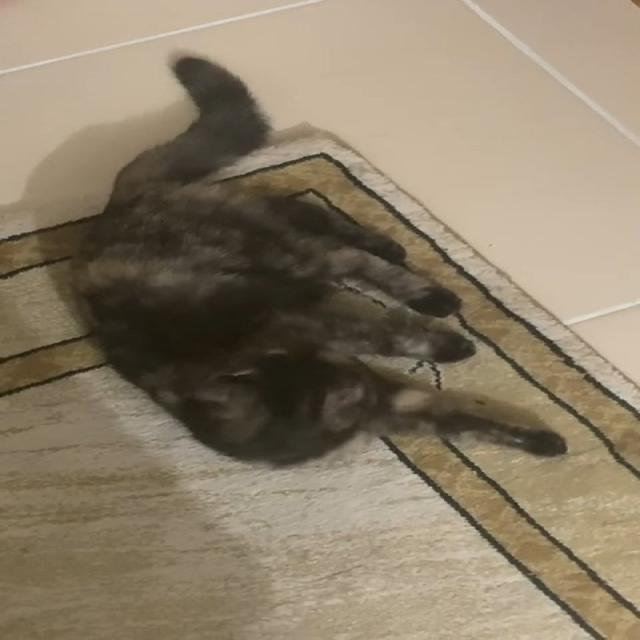authorized: (67, 50, 568, 468)
